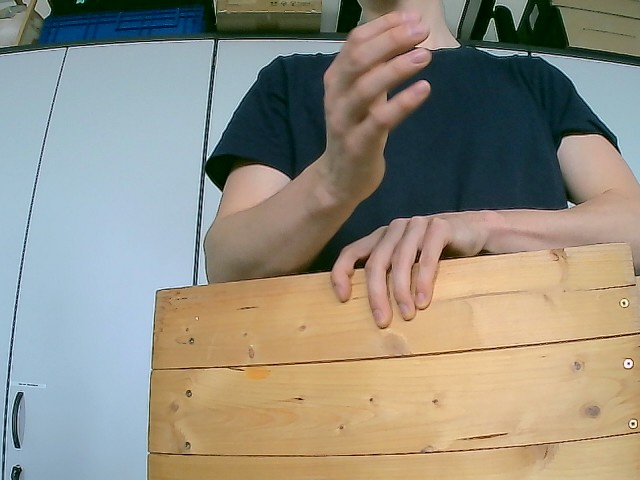no_gesture: (320, 9, 433, 204), (329, 209, 500, 329)
